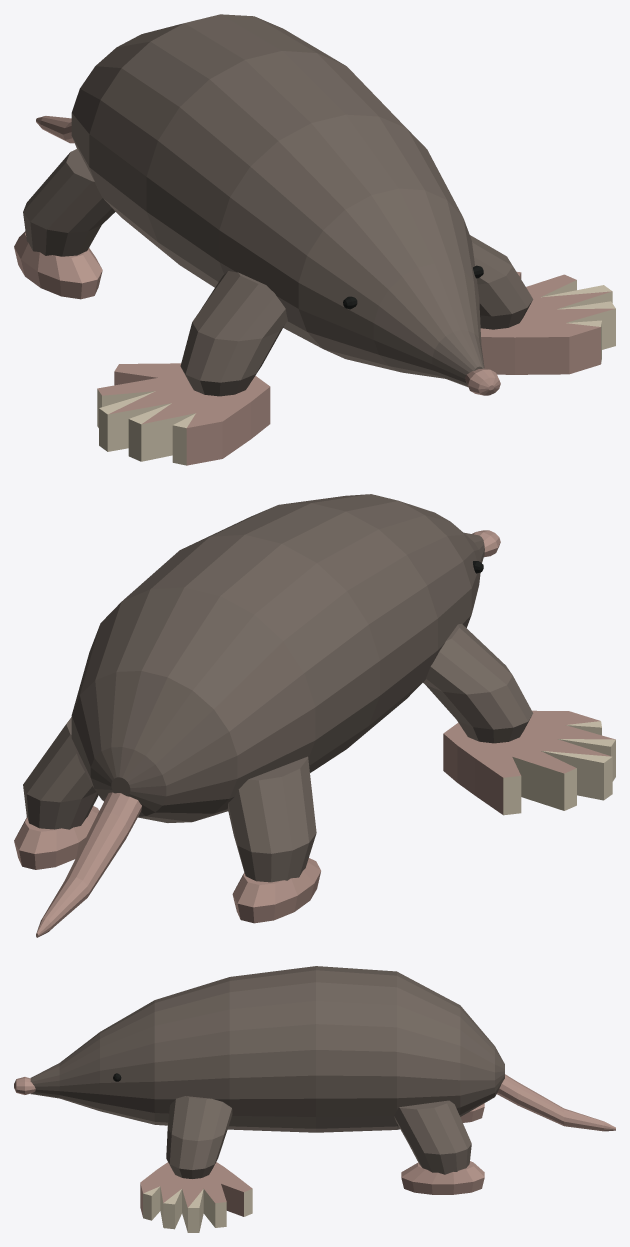
3 views of the same model, one above another, from view 1: azimuth 30°, elevation 25°; view 2: azimuth 150°, elevation 25°; view 3: azimuth 270°, elevation 25° (orthographic). The views are drawn at different scales.
Visible parts, largest first — view 1: WholeLowBarrelBodyShortNeckAndPointedMoleHead, WholeBroadFiveTipOutwardMoleForepalm0, WholeBroadFiveTipOutwardMoleForepalm1, WholeShortPowerfulLateralMoleForearm0, WholeSmallBentMoleHindleg0, WholeShortPowerfulLateralMoleForearm1, WholeSmallFiniteMoleRearFoot0, WholeSmallRoundedMoleNose, WholeShortNarrowTaperedMoleTail; view 2: WholeLowBarrelBodyShortNeckAndPointedMoleHead, WholeBroadFiveTipOutwardMoleForepalm0, WholeSmallBentMoleHindleg0, WholeShortPowerfulLateralMoleForearm0, WholeSmallBentMoleHindleg1, WholeShortNarrowTaperedMoleTail, WholeSmallFiniteMoleRearFoot0, WholeSmallFiniteMoleRearFoot1; view 3: WholeLowBarrelBodyShortNeckAndPointedMoleHead, WholeBroadFiveTipOutwardMoleForepalm1, WholeShortPowerfulLateralMoleForearm1, WholeSmallBentMoleHindleg1, WholeShortNarrowTaperedMoleTail, WholeSmallFiniteMoleRearFoot1.
Part boxes in pixels (box(x1,y1,x2,y2)): WholeLowBarrelBodyShortNeckAndPointedMoleHead: box(71, 14, 484, 386); WholeBroadFiveTipOutwardMoleForepalm0: box(97, 363, 270, 465); WholeBroadFiveTipOutwardMoleForepalm1: box(480, 271, 615, 374); WholeShortPowerfulLateralMoleForearm0: box(180, 271, 287, 396); WholeSmallBentMoleHindleg0: box(23, 149, 115, 256); WholeShortPowerfulLateralMoleForearm1: box(470, 235, 533, 329); WholeSmallFiniteMoleRearFoot0: box(14, 231, 102, 299); WholeSmallRoundedMoleNose: box(465, 368, 500, 395); WholeShortNarrowTaperedMoleTail: box(36, 116, 74, 143); WholeLowBarrelBodyShortNeckAndPointedMoleHead: box(71, 494, 484, 822); WholeBroadFiveTipOutwardMoleForepalm0: box(443, 710, 615, 815); WholeSmallBentMoleHindleg0: box(227, 756, 316, 882); WholeShortPowerfulLateralMoleForearm0: box(423, 624, 533, 743); WholeSmallBentMoleHindleg1: box(23, 717, 98, 829); WholeShortNarrowTaperedMoleTail: box(36, 792, 141, 937); WholeSmallFiniteMoleRearFoot0: box(232, 858, 320, 923); WholeSmallFiniteMoleRearFoot1: box(14, 806, 98, 869); WholeLowBarrelBodyShortNeckAndPointedMoleHead: box(30, 966, 504, 1132); WholeBroadFiveTipOutwardMoleForepalm1: box(140, 1162, 252, 1232); WholeShortPowerfulLateralMoleForearm1: box(166, 1096, 232, 1178); WholeSmallBentMoleHindleg1: box(394, 1100, 471, 1174); WholeShortNarrowTaperedMoleTail: box(497, 1074, 615, 1131); WholeSmallFiniteMoleRearFoot1: box(401, 1161, 484, 1194).
Bounding box in the file's own units: 1.34 × 0.67 × 2.09.
